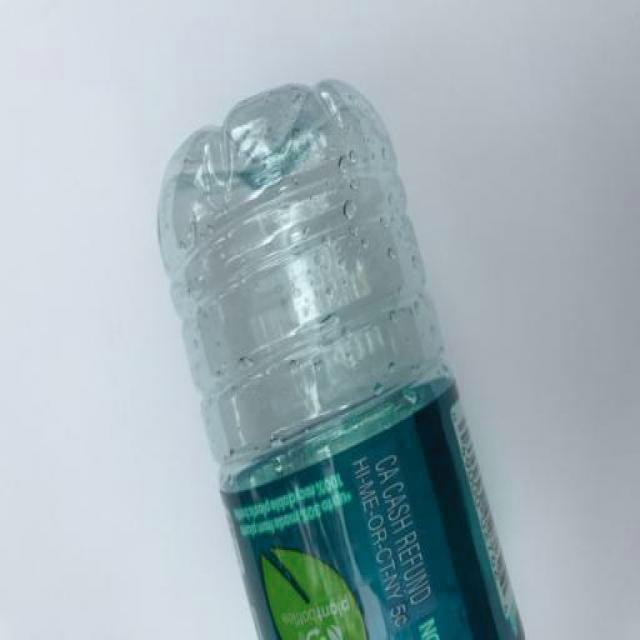bottle: (156, 78, 527, 640)
